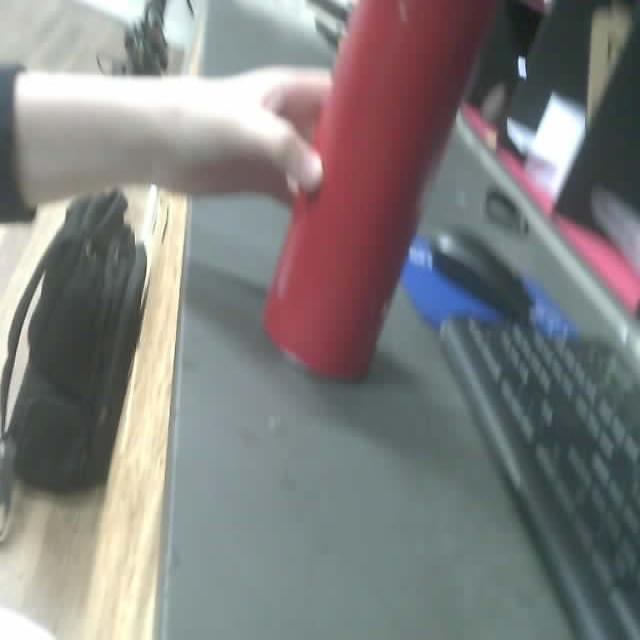water bottle: (261, 0, 498, 381)
